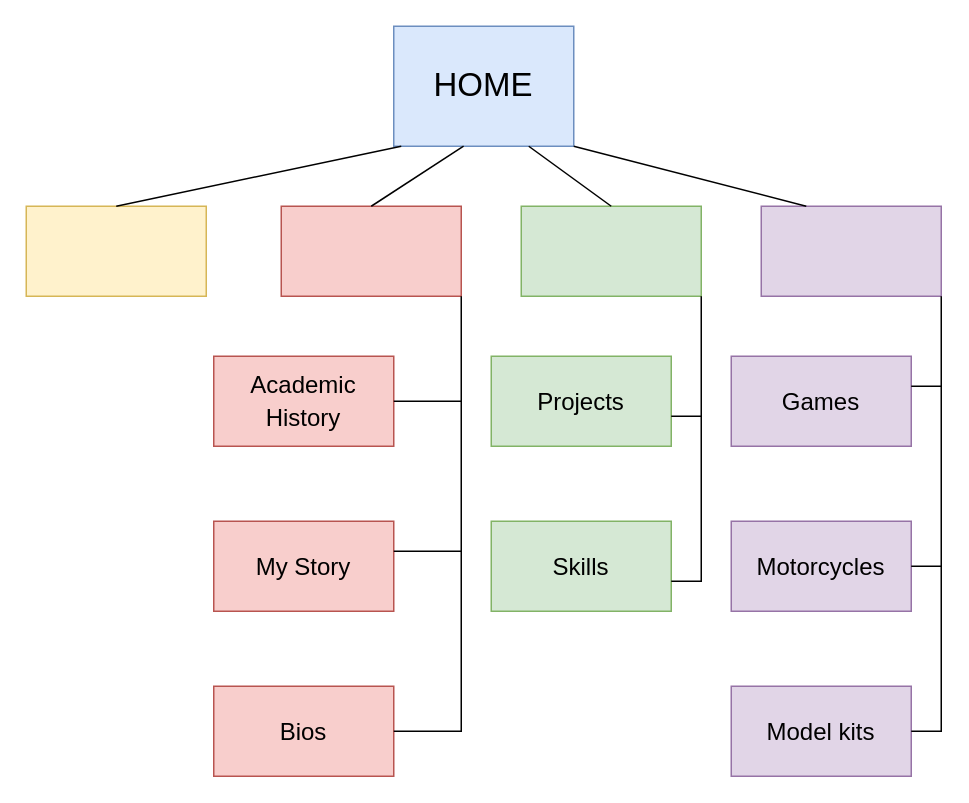
Some shapes in this 969 by 803 pixel diagram are drawn without their labels. Each missing label, with the box of its shape:
About me: (280, 205, 461, 296)
Contacts: (25, 205, 206, 296)
Experiences: (520, 205, 701, 296)
Hobby/Others: (760, 205, 941, 296)
